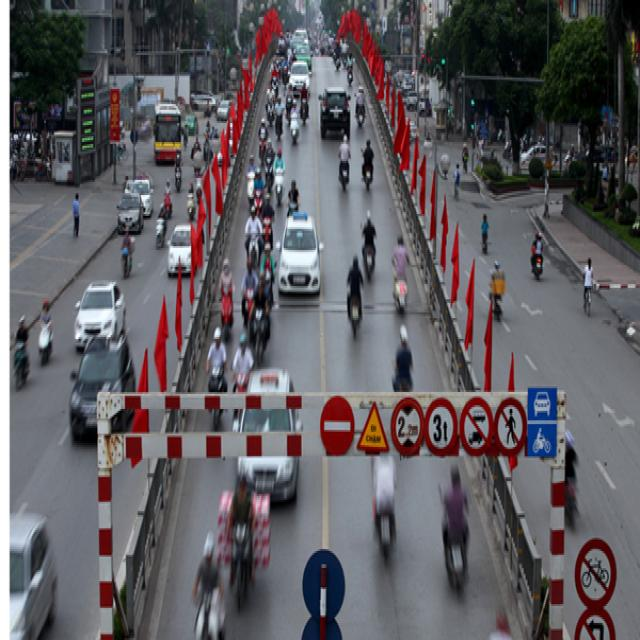bien_cam: (575, 534, 618, 607), (461, 396, 494, 458), (320, 396, 354, 456), (425, 396, 459, 456), (391, 397, 424, 458), (496, 396, 528, 456)
bien_nguy_hiem: (357, 402, 388, 452)
